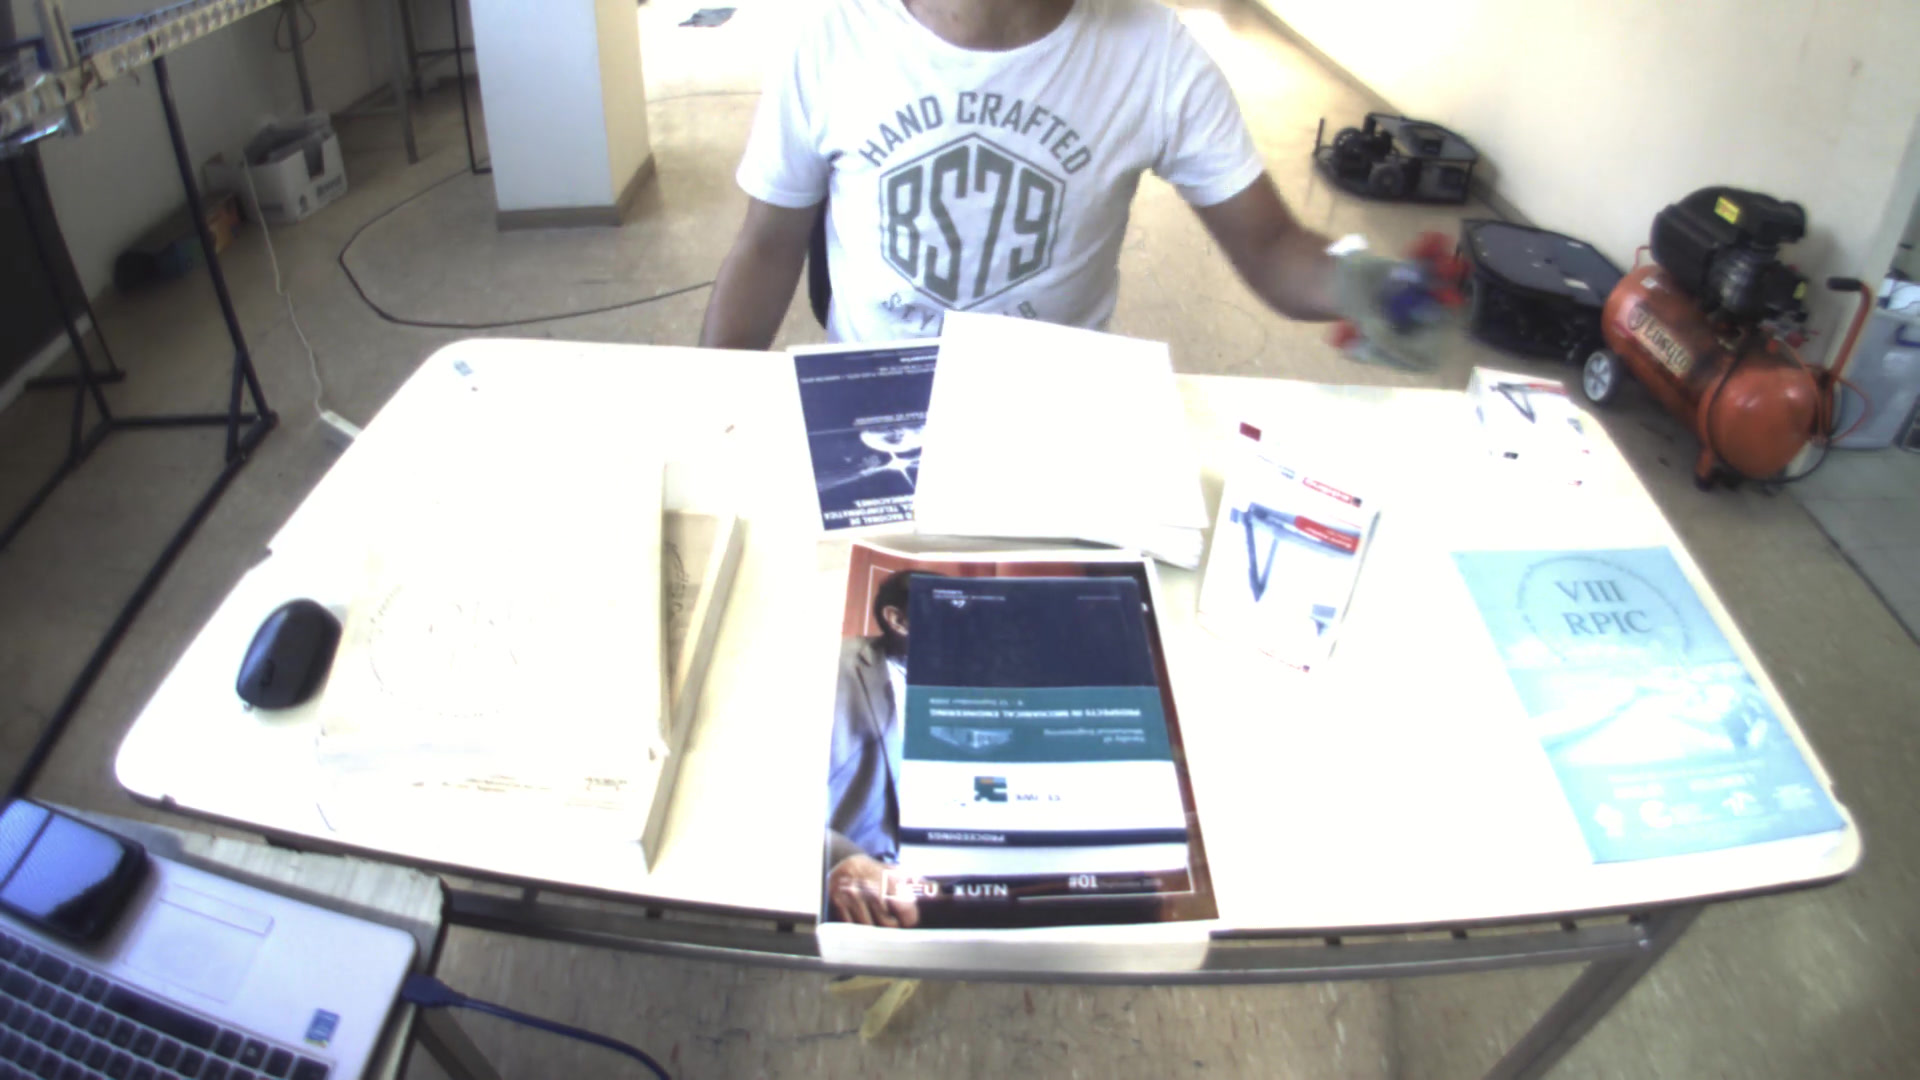hand: (1323, 233, 1465, 386)
